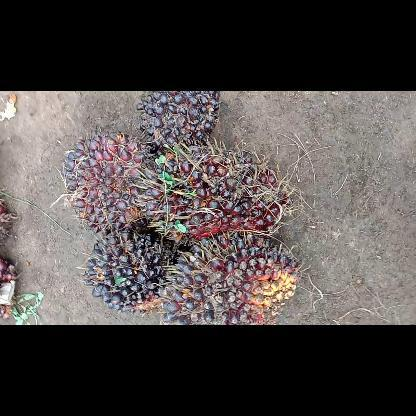TBS mentah: (140, 142, 294, 248), (158, 232, 306, 324), (61, 128, 165, 234), (78, 221, 182, 314), (133, 91, 221, 161)
